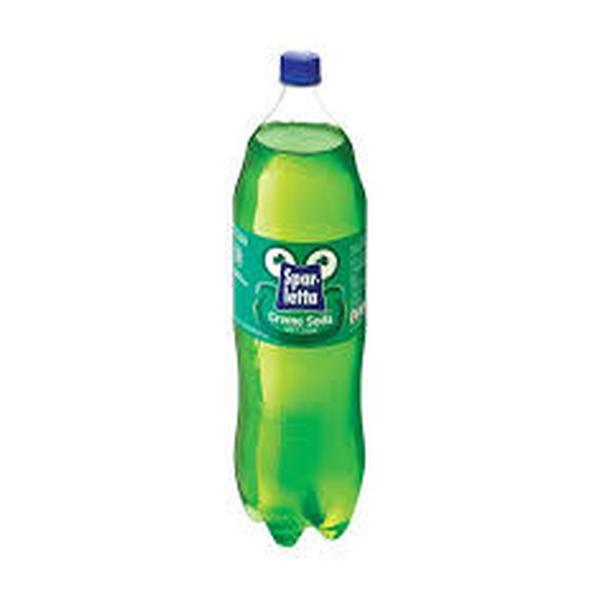tutuma: (216, 35, 379, 552)
